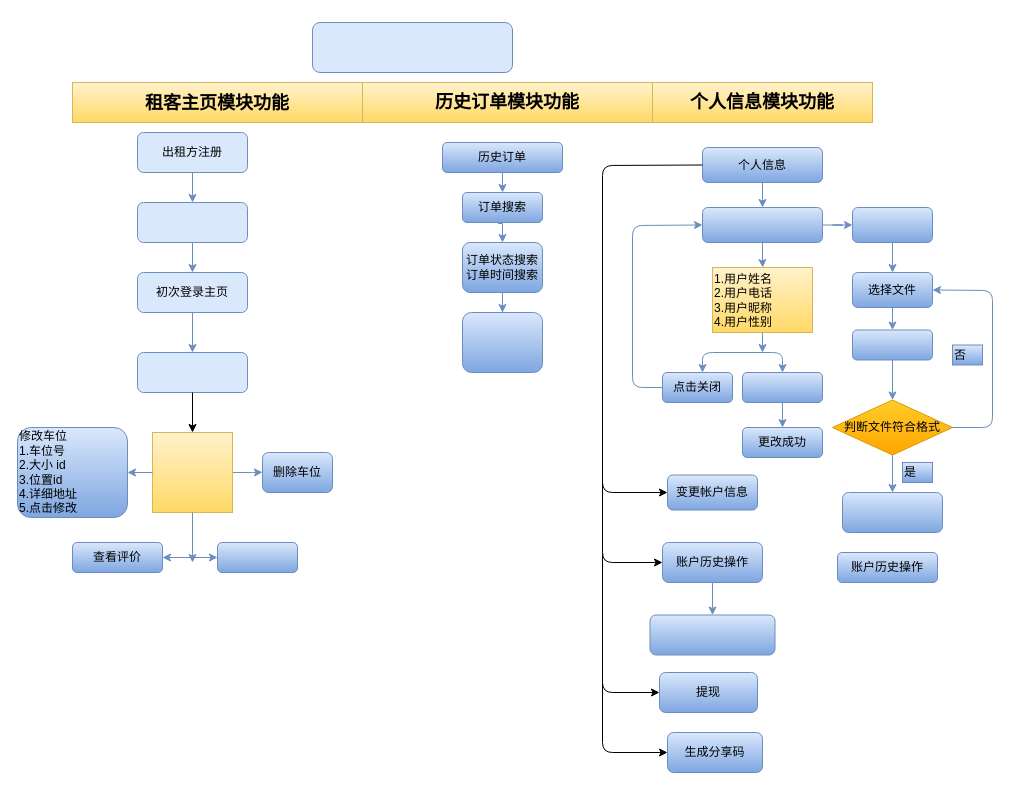
This 1018x790 diagram has some shape labels left out. Each missing label, with the centre of its shape:
1.详情 2.评论 3.取消订单: the point at 502,342
1.车位号 2.大小id 3.位置id 4.详细地址 5.点击增加: the point at 192,472
上传成功: the point at 892,512
出租方 详细 使用 说明: the point at 412,47
出租方登录: the point at 192,222
可查看历史操作列表: the point at 712,634
更改个人信息: the point at 762,224
更改头像: the point at 892,224
添加车位: the point at 192,372
点击上传: the point at 892,344
点击提交更改: the point at 782,387
详细地址: the point at 257,557
